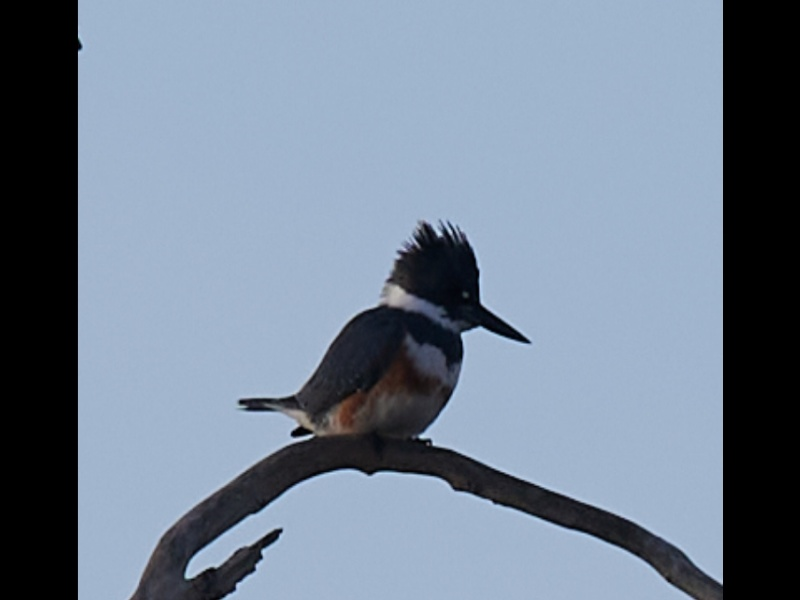kingfisher: (236, 211, 537, 450)
